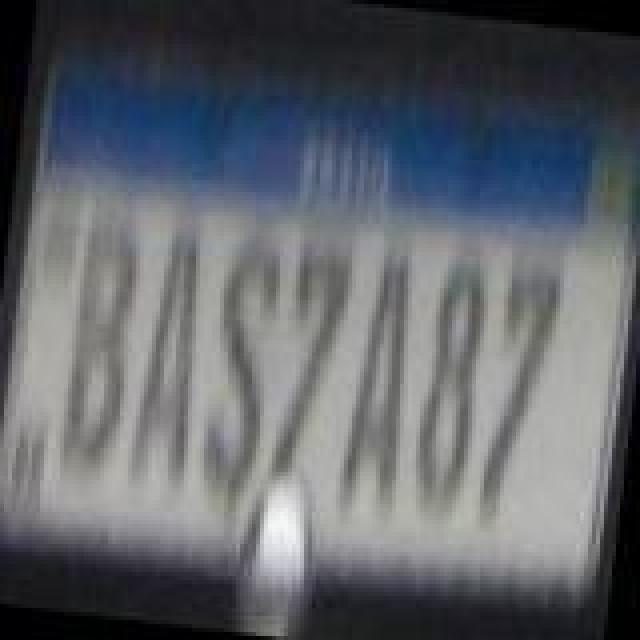7: (476, 254, 564, 530), (266, 236, 358, 484)
A: (122, 222, 214, 498), (334, 246, 426, 522), (410, 248, 494, 512)
B: (54, 214, 146, 474)
S: (192, 226, 288, 510)
